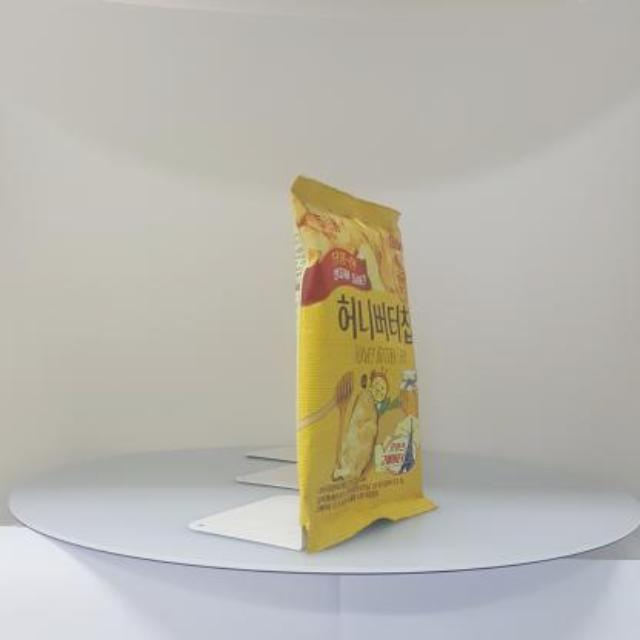snack_bag: (275, 163, 461, 564)
